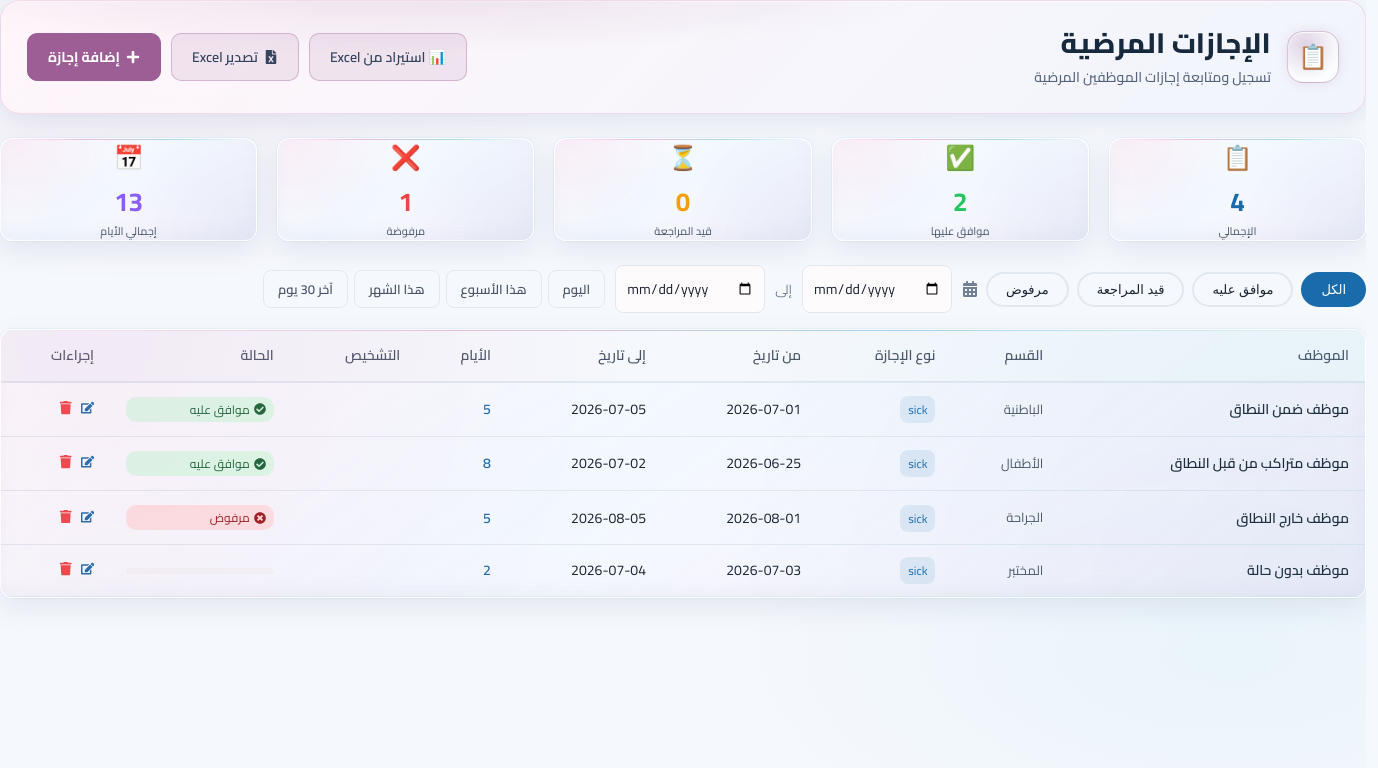
MedicalLeavePage — interval-overlap date filter › an out-of-range window matches nothing, and clearing restores the full list
This screenshot has width=1378, height=768.
Expected: the text "موظف بدون حالة" is shown, x1=1059 y1=545 x2=1365 y2=596
In the date field named "من تاريخ": (877,289) x1=802 y1=265 x2=952 y2=313, type "2020-01-01"
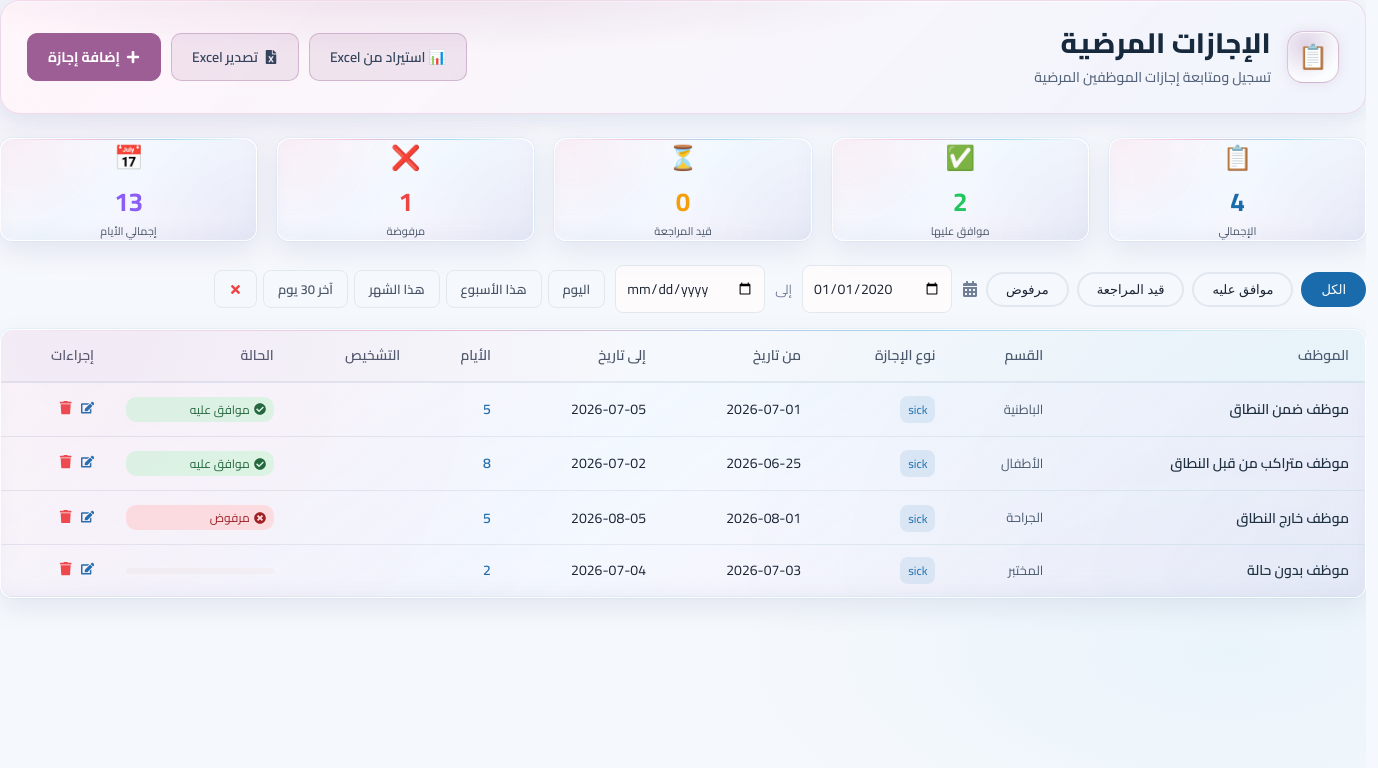
In the date field named "إلى تاريخ": (690,289) x1=615 y1=265 x2=765 y2=313, type "2020-01-31"
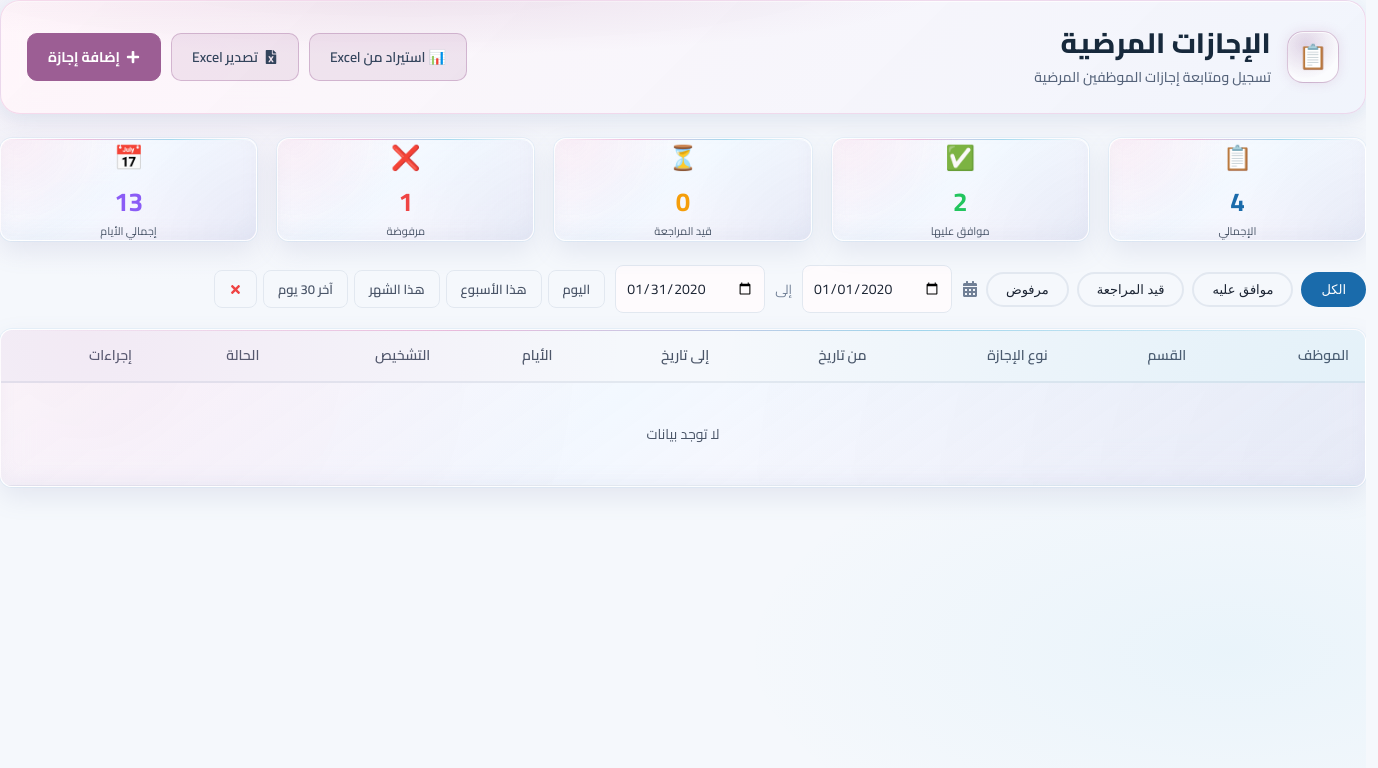
Now the text "موظف ضمن النطاق" is gone
Click the button titled "مسح فلتر التاريخ": (235,289) x1=214 y1=270 x2=257 y2=308
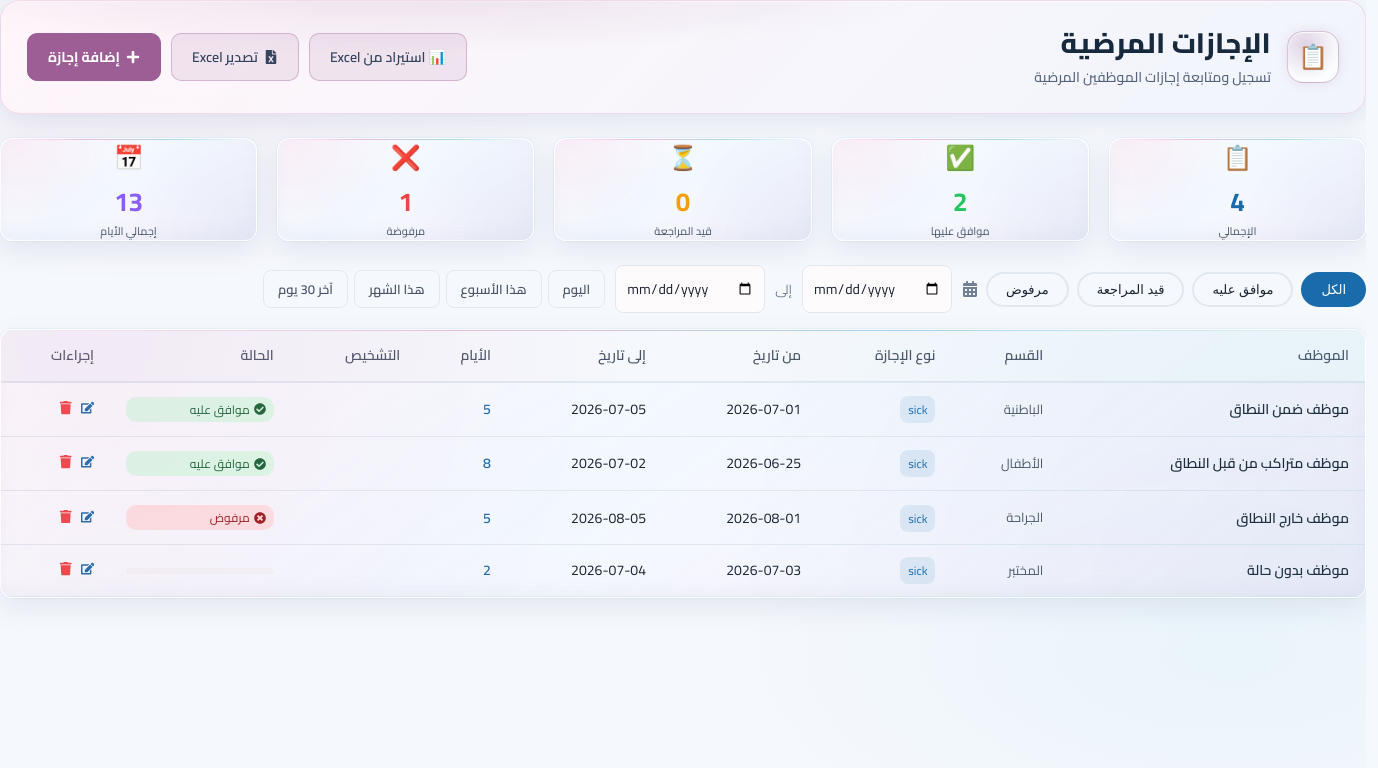
Now the text "موظف ضمن النطاق" is shown, box x1=1059 y1=382 x2=1365 y2=436
Now the text "موظف خارج النطاق" is shown, box x1=1059 y1=491 x2=1365 y2=545
